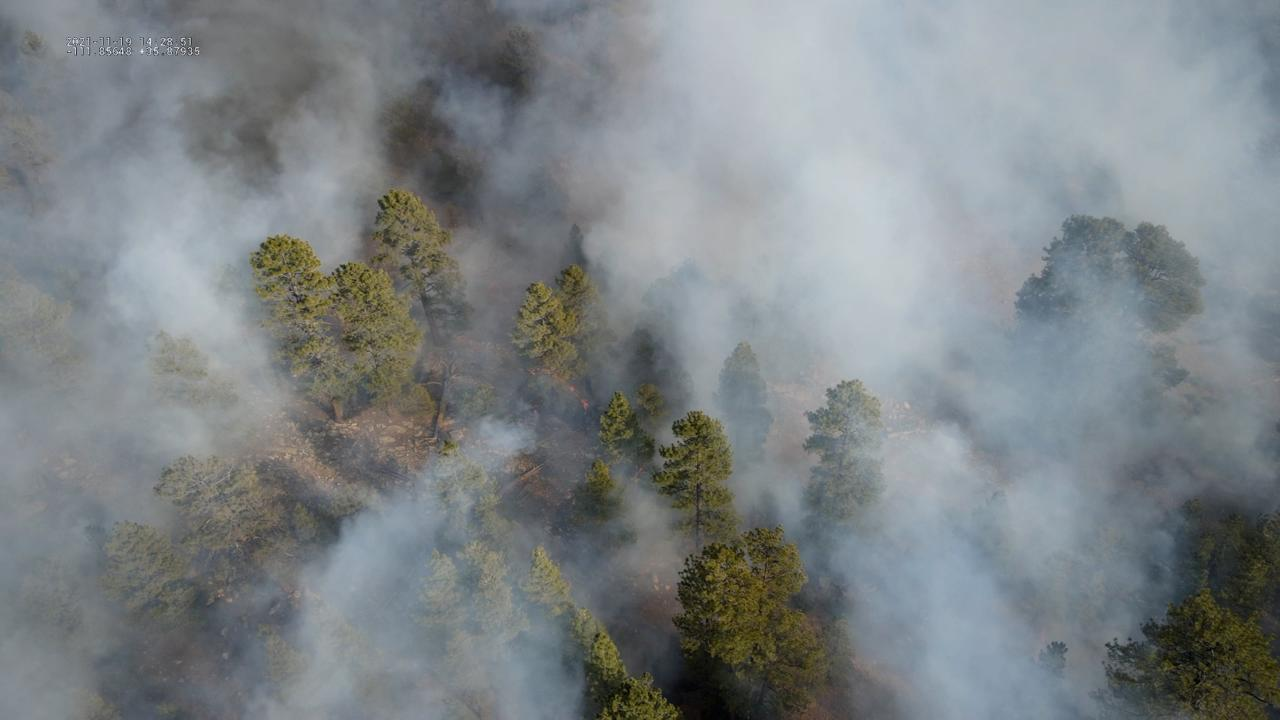fire: (581, 400, 590, 416), (569, 383, 577, 394), (638, 466, 644, 473)
smoke: (0, 0, 1280, 720)
